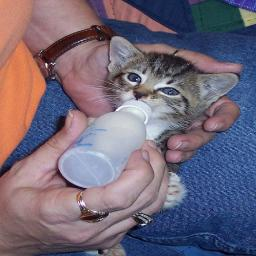catnose: (131, 88, 149, 100)
